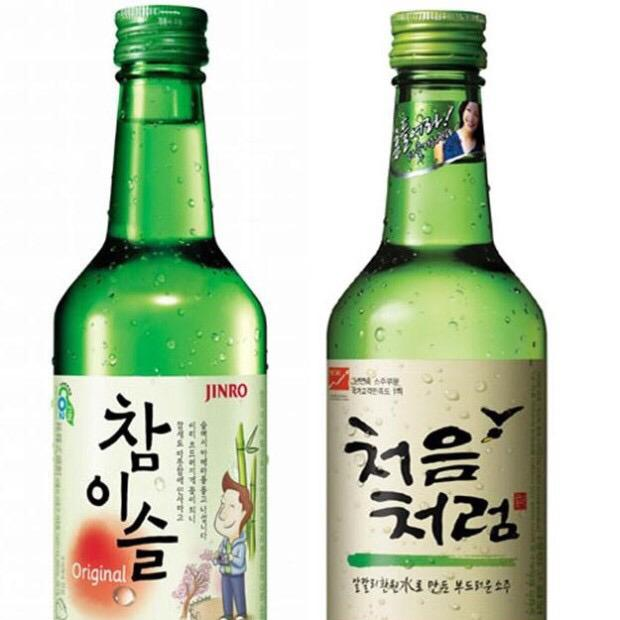soju: (48, 5, 549, 620)
